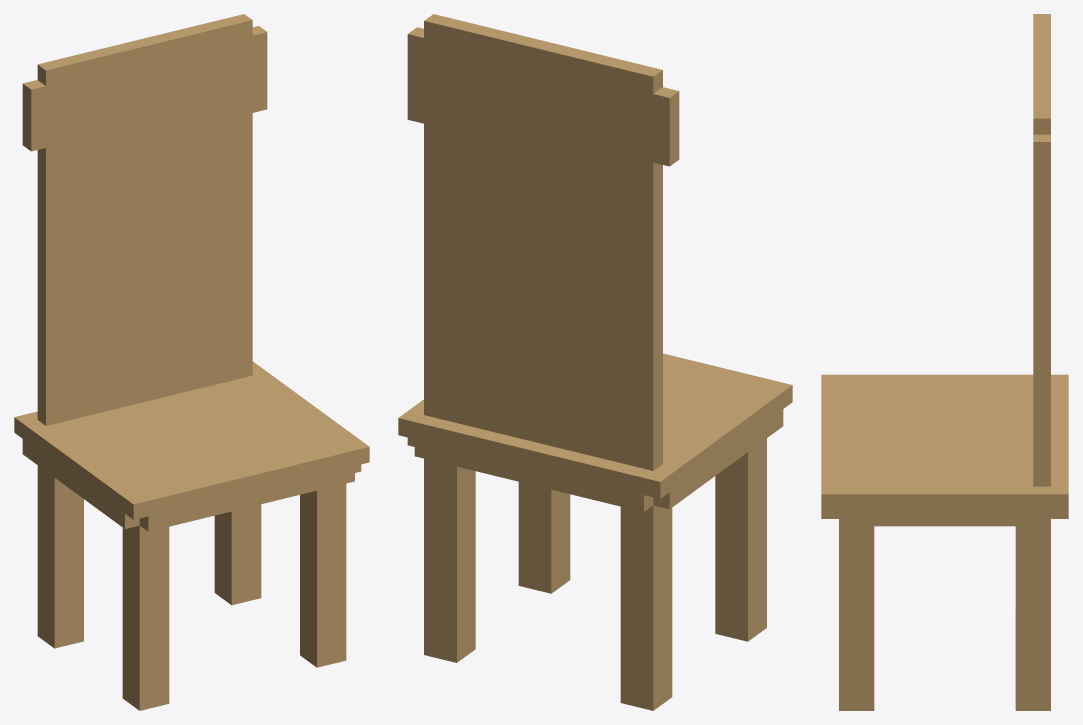
The model's file is IKEA_Silla1.fbx.
The picture shows the model from 3 angles, left to right: view 1: azimuth 30°, elevation 25°; view 2: azimuth 150°, elevation 25°; view 3: azimuth 270°, elevation 25°; orthographic projection. The views are drawn at different scales.
Parts seen in each view (by area): view 1: IKEA_Silla1; view 2: IKEA_Silla1; view 3: IKEA_Silla1.
Part boxes in pixels (x1,y1,x2,y2): IKEA_Silla1: (14, 14, 369, 710); IKEA_Silla1: (398, 14, 792, 710); IKEA_Silla1: (821, 14, 1068, 710).
Bounding box in the file's own units: 160 × 370 × 140.
